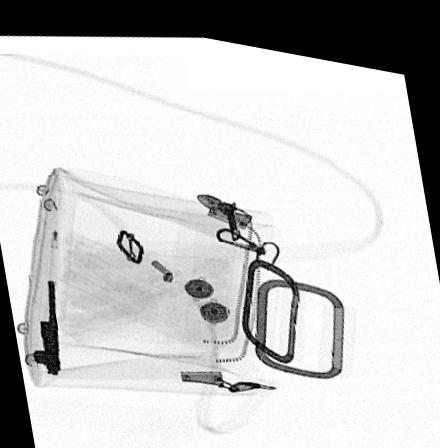Gun: (33, 278, 61, 372)
